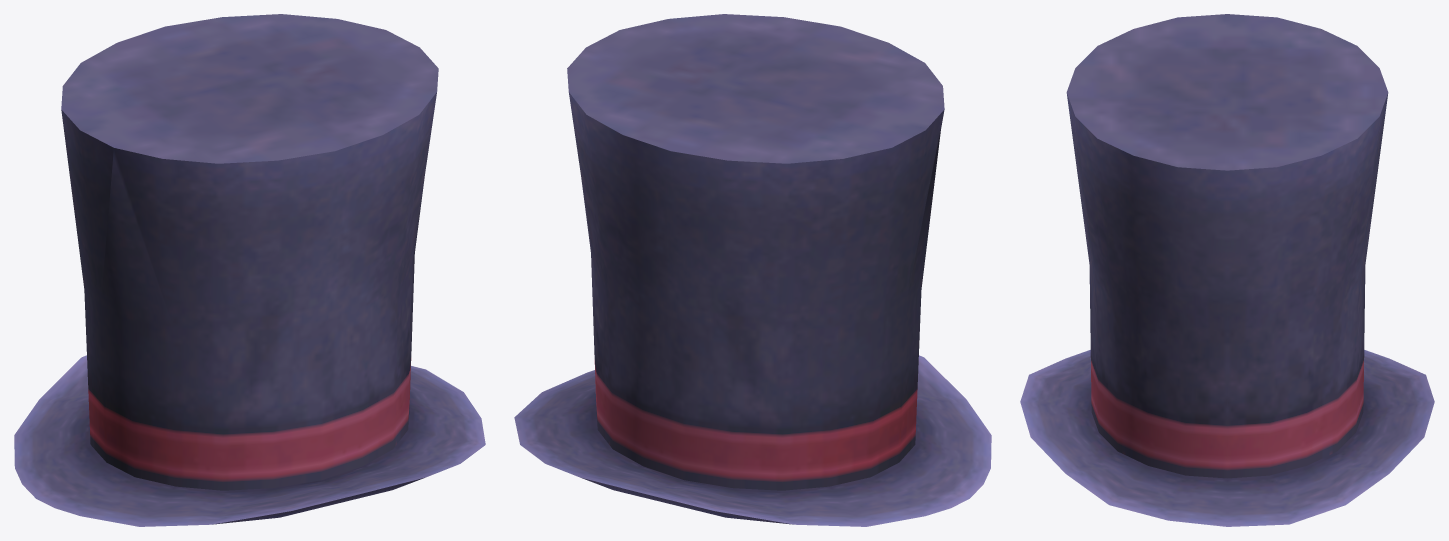
Rendered from Hat Item.obj.
The picture shows the model from 3 angles, left to right: view 1: azimuth 30°, elevation 25°; view 2: azimuth 150°, elevation 25°; view 3: azimuth 270°, elevation 25°; orthographic projection. The views are drawn at different scales.
Visible parts, largest first — view 1: Hat_Item; view 2: Hat_Item; view 3: Hat_Item.
Boxes of the visible parts, box(x1,y1,x2,y2) form: Hat_Item: box(14, 14, 485, 526); Hat_Item: box(514, 14, 991, 526); Hat_Item: box(1020, 14, 1434, 526).
Size of the model in its own units: 1.2 by 0.9608 by 1.07.
Materials: 1 (1 with a texture image).
